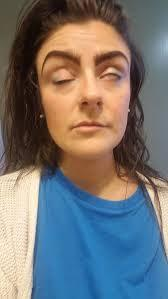strokeEyeSevere: (47, 63, 129, 90)
strokeMouthWeak: (68, 115, 116, 135)
